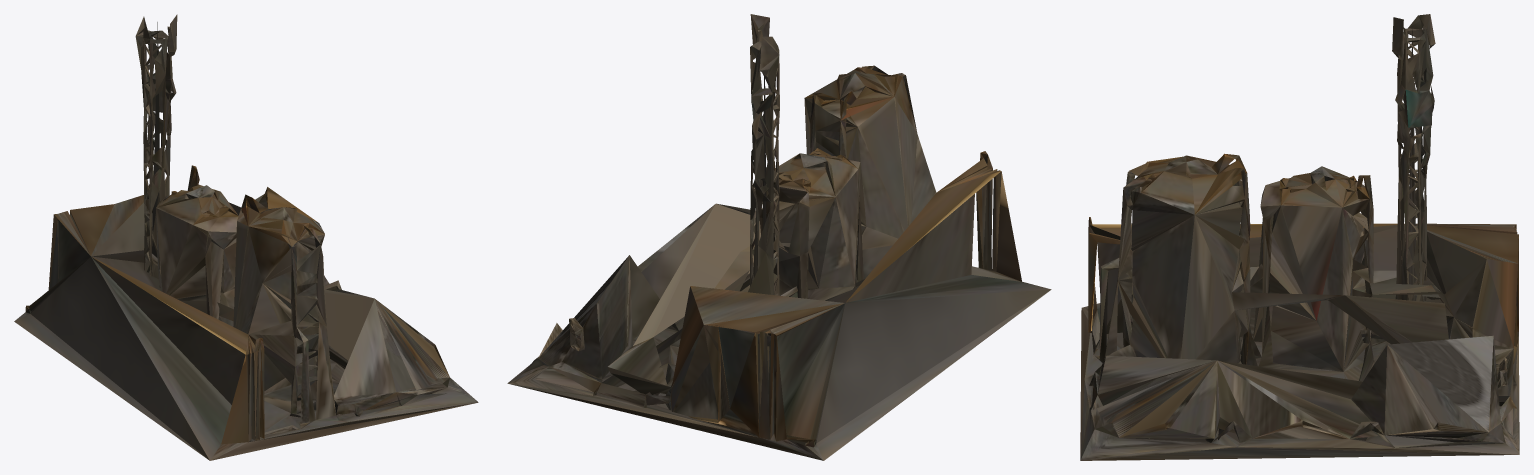
The picture shows the model from 3 angles, left to right: view 1: azimuth 30°, elevation 25°; view 2: azimuth 150°, elevation 25°; view 3: azimuth 270°, elevation 25°; orthographic projection. The views are drawn at different scales.
Parts seen in each view (by area): view 1: s08; view 2: s08; view 3: s08.
Boxes of the visible parts, x1,y1,x2,y2 form: s08: (14,14,478,460); s08: (507,14,1051,460); s08: (1080,14,1519,460).
Size of the model in its own units: 6.56 by 7.46 by 8.33.
1 material, 1 textured.
